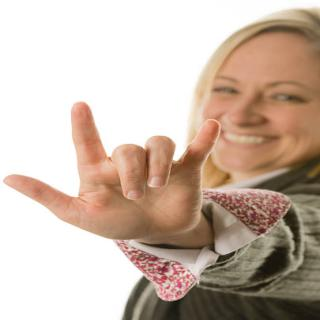I Love You: (2, 88, 228, 250)
